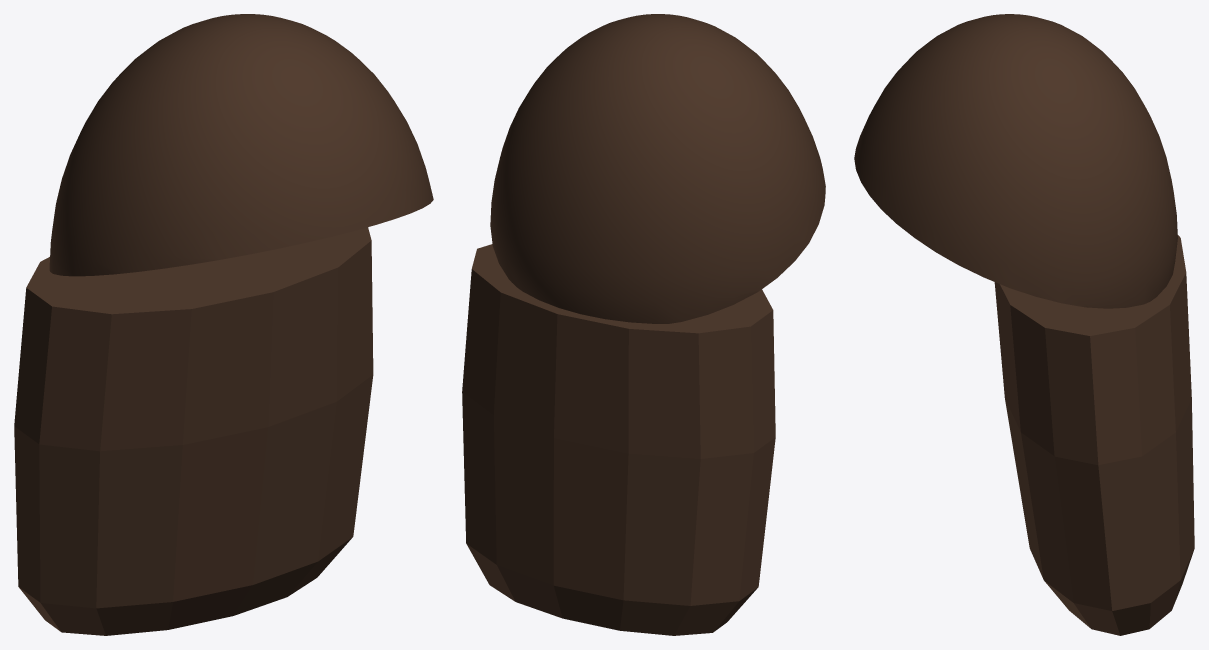
File: hair_long.fbx
The picture shows the model from 3 angles, left to right: view 1: azimuth 30°, elevation 25°; view 2: azimuth 150°, elevation 25°; view 3: azimuth 270°, elevation 25°; orthographic projection. The views are drawn at different scales.
Visible parts, largest first — view 1: hair_long; view 2: hair_long; view 3: hair_long.
Part boxes in pixels (left/top/right/bottom): hair_long: left=14, top=14, right=433, bottom=635; hair_long: left=462, top=14, right=825, bottom=635; hair_long: left=854, top=14, right=1194, bottom=635.
Size of the model in its own units: 0.301 by 0.5128 by 0.2874.
